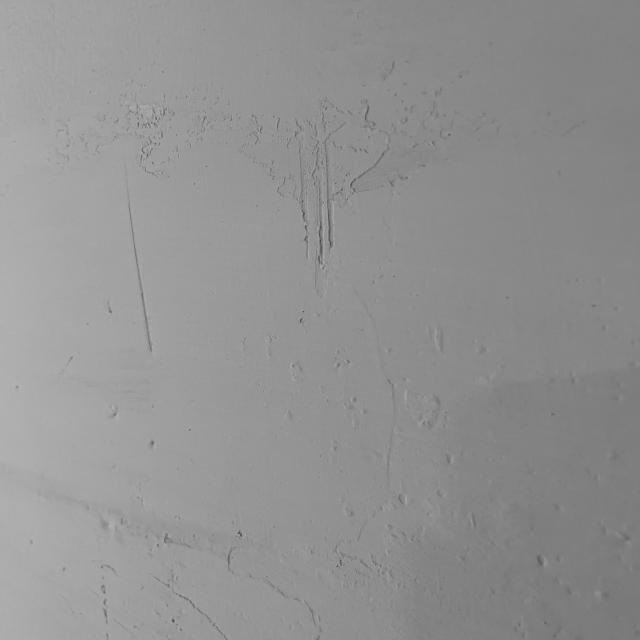rough and patchy surface: (46, 27, 630, 629)
